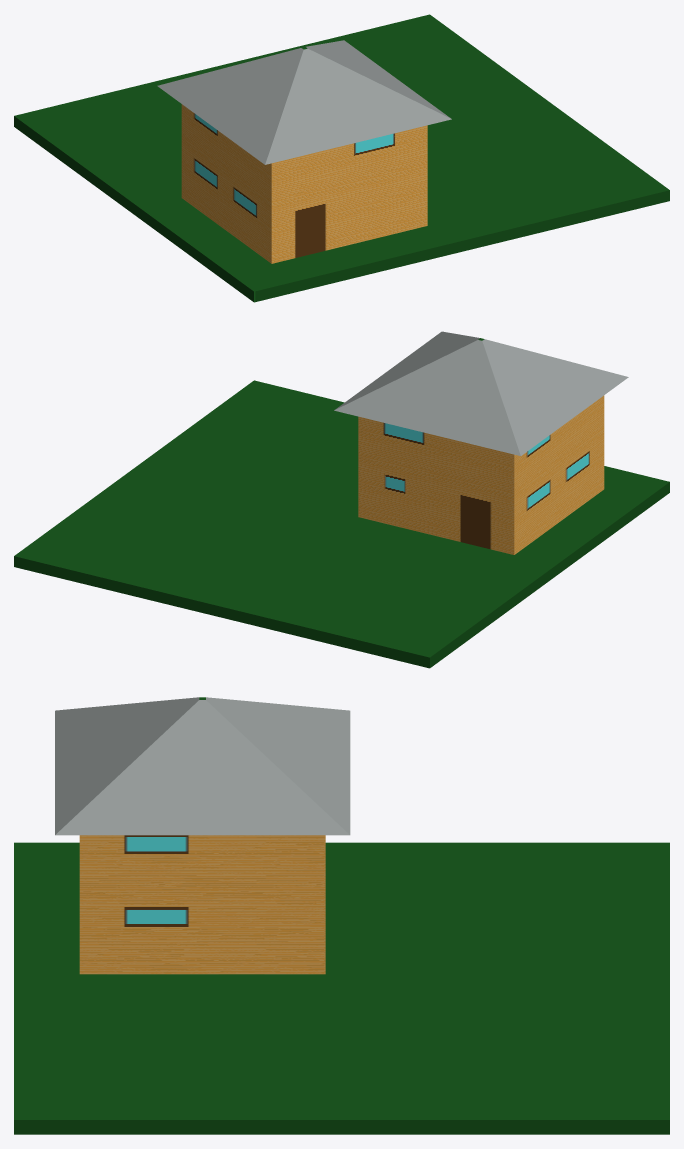
The model's file is Dwelling_Grade_0_Tile_8x8.fbx.
3 views of the same model, one above another, from view 1: azimuth 30°, elevation 25°; view 2: azimuth 150°, elevation 25°; view 3: azimuth 270°, elevation 25° (orthographic). The views are drawn at different scales.
Parts seen in each view (by area): view 1: Cube; view 2: Cube; view 3: Cube.
Part boxes in pixels (left/top/right/bottom): Cube: left=14, top=14, right=669, bottom=302; Cube: left=14, top=331, right=669, bottom=668; Cube: left=14, top=697, right=669, bottom=1134.
Size of the model in its own units: 200 by 80.25 by 200.
